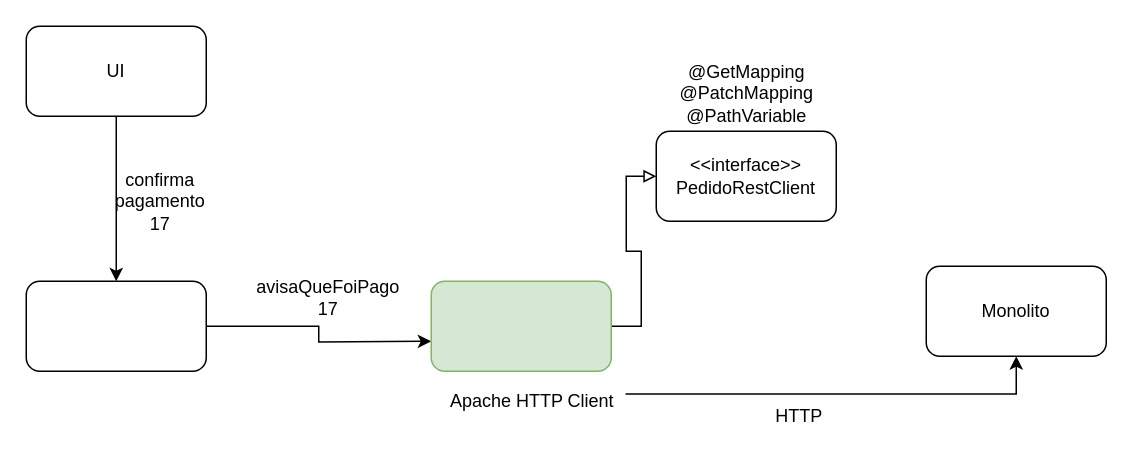
Image size: 1133x458. Some labels were removed from this diagram. Here are the shapes that lost their labels. From the top down, the centre of each, then its label:
At (x=115, y=325): "PagamentoController".
At (x=520, y=325): "OpenFeign Proxy".
